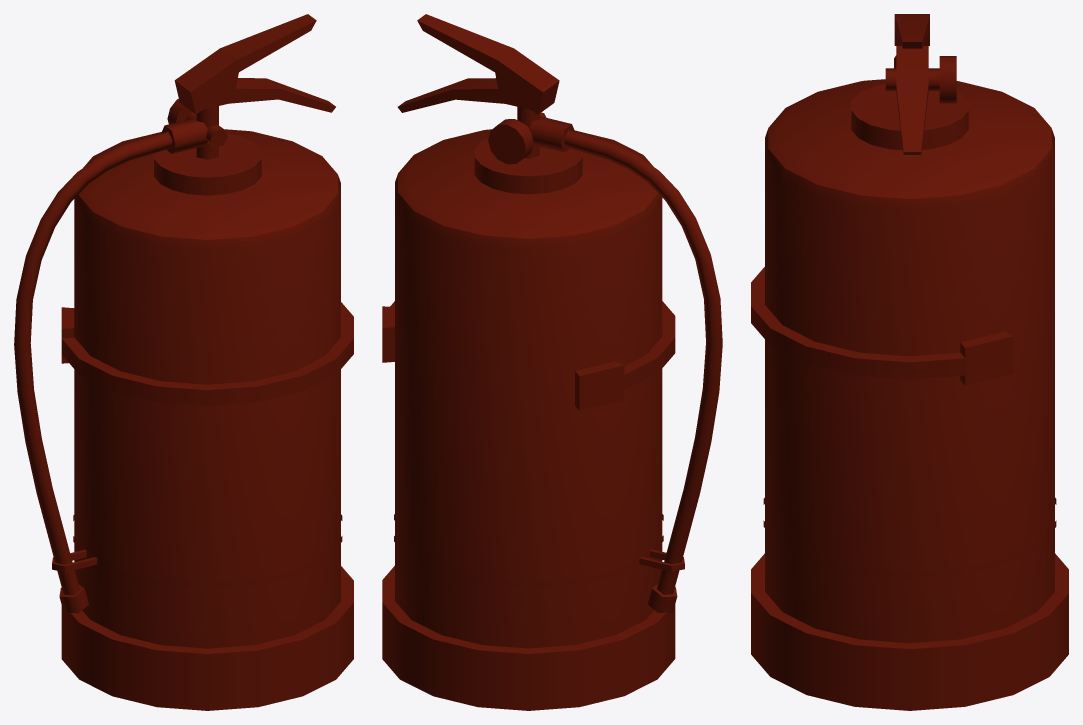
The model's file is fire1.FBX.
3 views of the same model, side by side, from view 1: azimuth 30°, elevation 25°; view 2: azimuth 150°, elevation 25°; view 3: azimuth 270°, elevation 25° (orthographic). The views are drawn at different scales.
Visible parts, largest first — view 1: fire1; view 2: fire1; view 3: fire1.
Part boxes in pixels (x1=…): fire1: x1=14, y1=14, x2=353, y2=710; fire1: x1=382, y1=14, x2=722, y2=710; fire1: x1=751, y1=14, x2=1068, y2=710.
Bounding box in the file's own units: 29.03 × 52.05 × 22.81.
